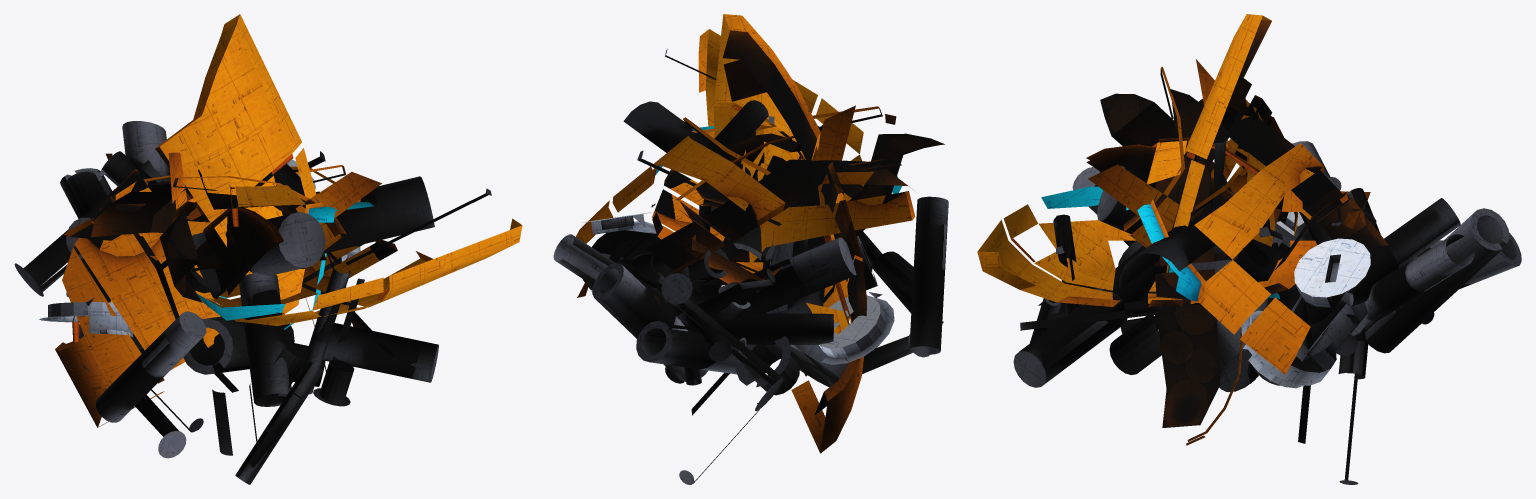
The model's file is MonsterA_die11.obj.
3 views of the same model, side by side, from view 1: azimuth 30°, elevation 25°; view 2: azimuth 150°, elevation 25°; view 3: azimuth 270°, elevation 25° (orthographic). The views are drawn at different scales.
Visible parts, largest first — view 1: Box001; view 2: Box001; view 3: Box001.
Part boxes in pixels (box(x1,y1,x2,y2)): Box001: box(14, 14, 522, 484); Box001: box(553, 14, 948, 484); Box001: box(977, 14, 1521, 484).
Bounding box in the file's own units: 224 × 281 × 293.
Materials: 1 (1 with a texture image).
